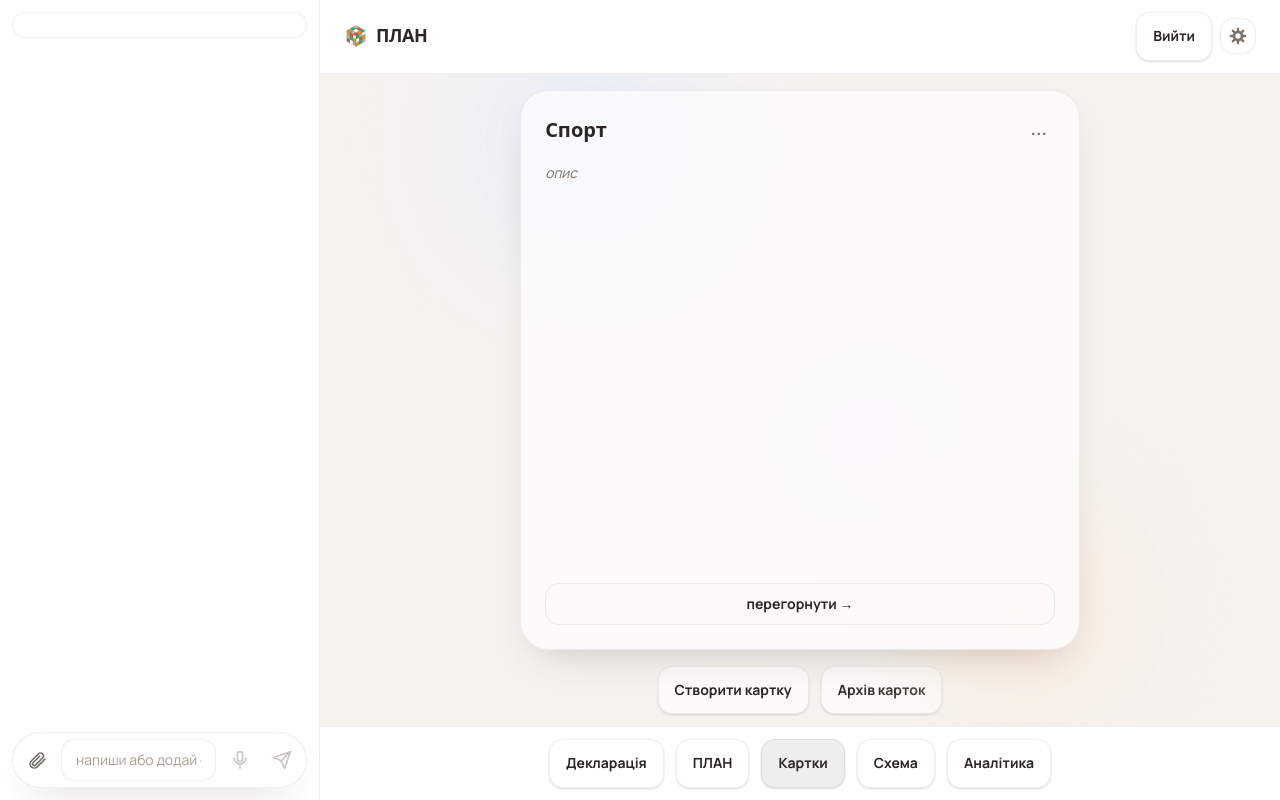
ISS-55/CH-04: клік "Створити картку" в Колоді показує inline форму створення на місці передньої картки
Click the button "Створити картку".
click(733, 690)  # box x1=658 y1=666 x2=809 y2=714
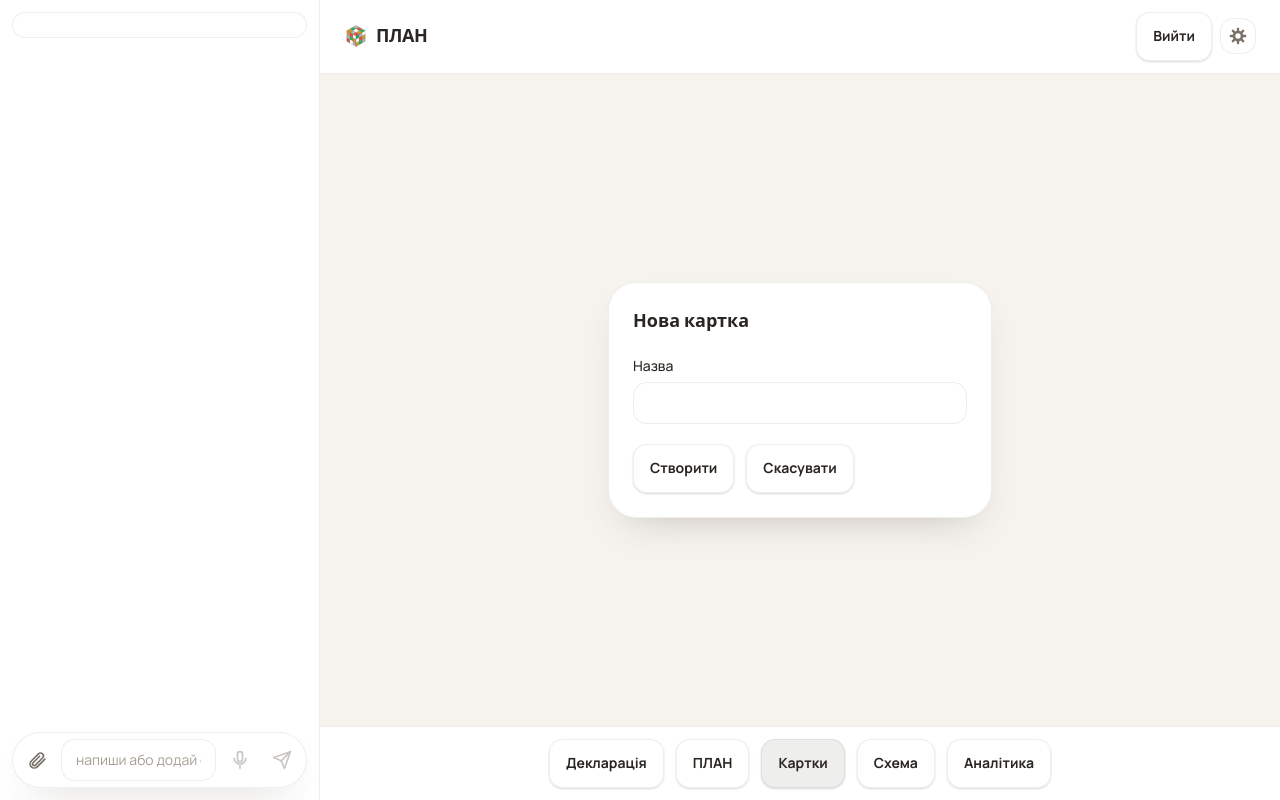
Now the heading "Нова картка" is shown, box x1=633 y1=310 x2=749 y2=332
Now the heading "Спорт" is gone
